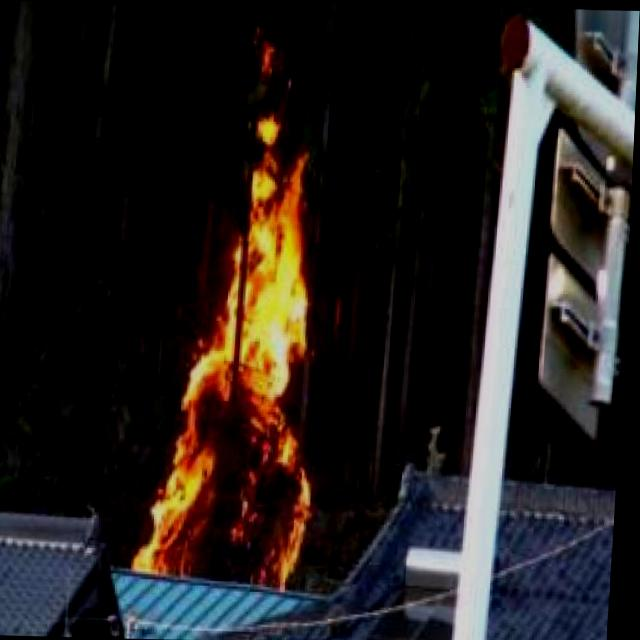helmet: (137, 144, 334, 587)
